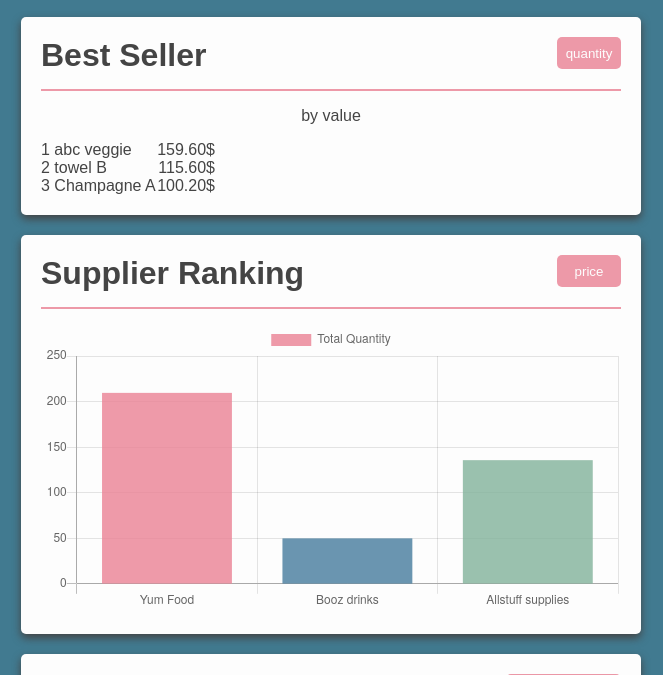
it: dashboard › supplierRanking chart gets rendered and can be toggled
The image size is (663, 675).
Expected: the drawing is shown, 41,324 -> 621,614
What coordinates should you click on to do the following:
click the button with test id "supplier-ranking-toggle-button"
I would click on:
 (589, 271)
Its box is 557,255 -> 621,287.
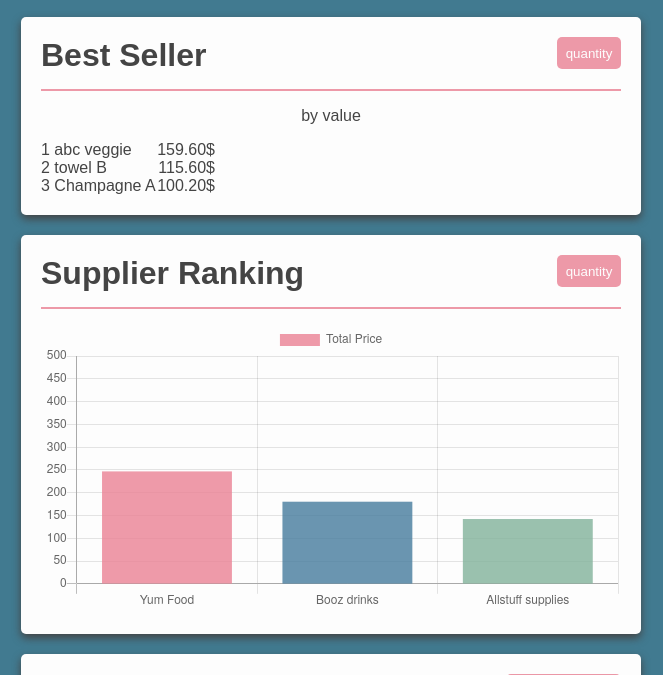
Expected: the element with test id "chart-container-rankingByPrice" is shown, 41,324 -> 621,614
